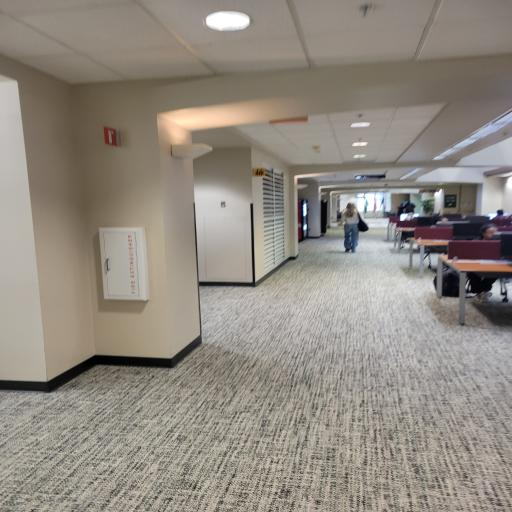fire extinguisher: (92, 219, 161, 307)
fire extinguisher sign: (97, 124, 127, 149)
